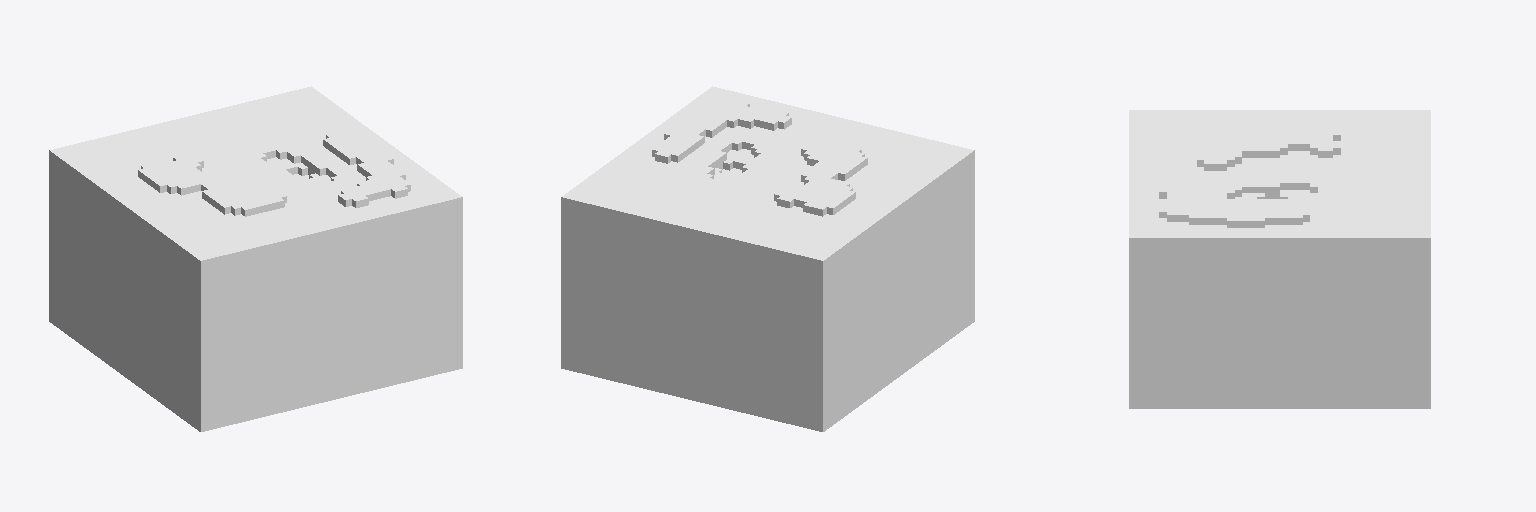
Rendered from tile-fullmountain-2.obj.
3 views of the same model, side by side, from view 1: azimuth 30°, elevation 25°; view 2: azimuth 150°, elevation 25°; view 3: azimuth 270°, elevation 25° (orthographic).
Visible parts, largest first — view 1: tile-fullmountain-2; view 2: tile-fullmountain-2; view 3: tile-fullmountain-2.
Part boxes in pixels (x1,y1,x2,y2): tile-fullmountain-2: (49, 86, 462, 431); tile-fullmountain-2: (561, 86, 974, 431); tile-fullmountain-2: (1129, 110, 1430, 408).
Size of the model in its own units: 40 by 26 by 40.